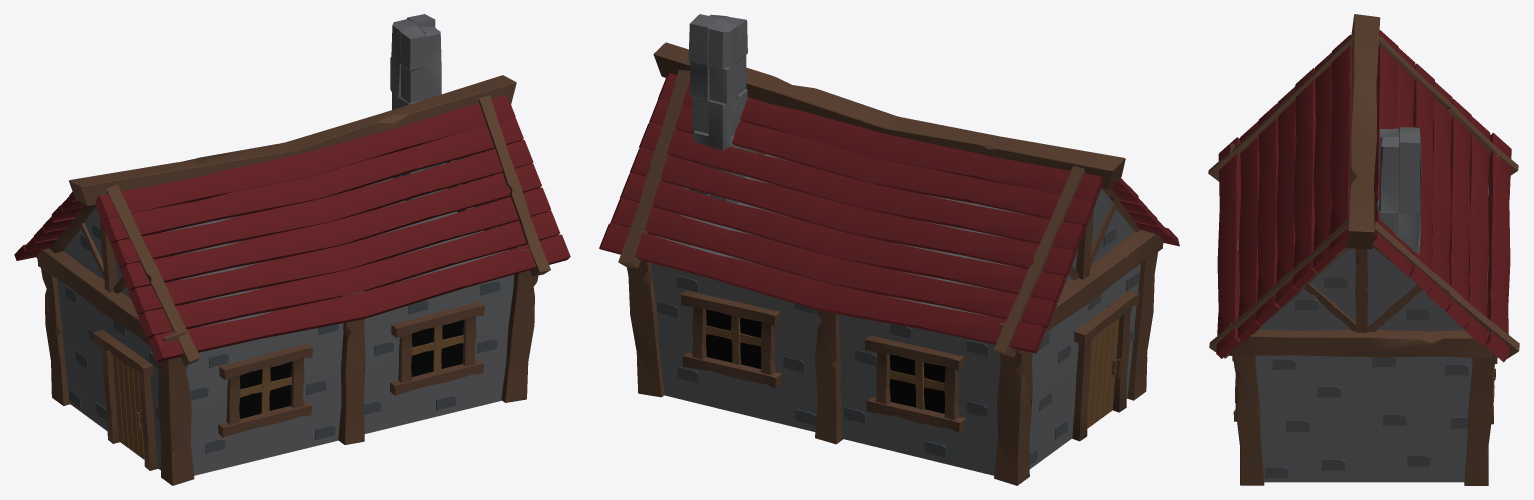
File: House.fbx
3 renders of one model, left to right at view 1: azimuth 30°, elevation 25°; view 2: azimuth 150°, elevation 25°; view 3: azimuth 270°, elevation 25°, orthographic. The views are drawn at different scales.
Visible parts, largest first — view 1: Cube.048; view 2: Cube.048; view 3: Cube.048.
Boxes of the visible parts, box(x1,y1,x2,y2) form: Cube.048: box(14, 14, 570, 485); Cube.048: box(599, 14, 1179, 485); Cube.048: box(1208, 14, 1519, 485).
Size of the model in its own units: 3035 by 2194 by 1837.
